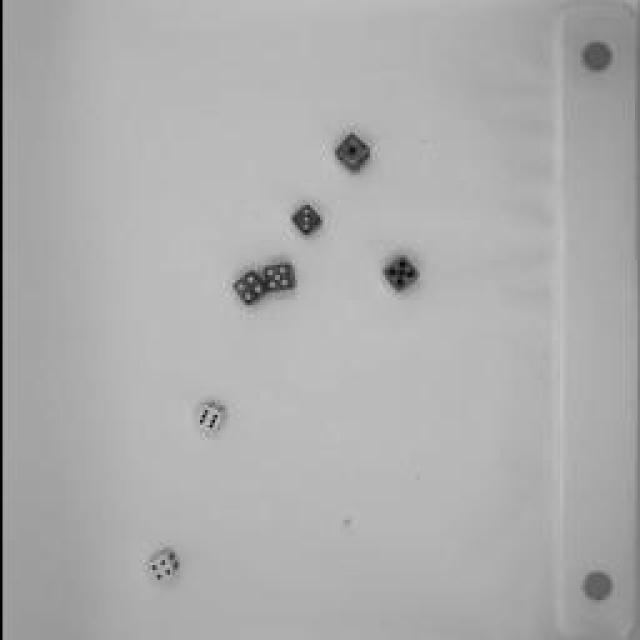dice_1: (328, 130, 372, 175)
dice_3: (288, 205, 322, 237)
dice_4: (140, 540, 180, 585), (228, 269, 264, 309)
dice_5: (375, 252, 420, 298), (260, 260, 295, 295)
dice_6: (192, 400, 226, 438)
